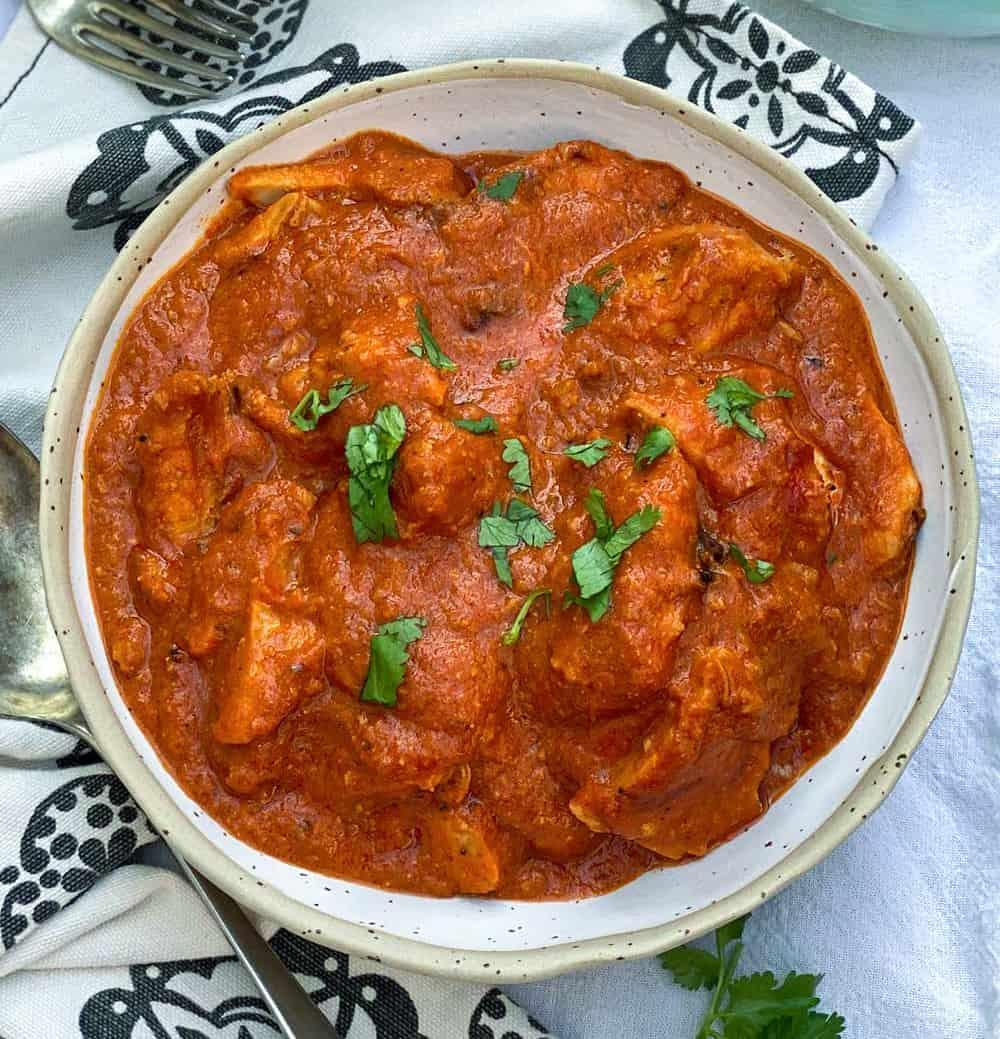chicken: (88, 114, 932, 927)
